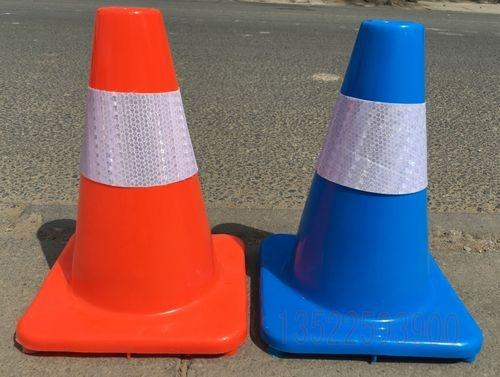cone_barrel: (37, 0, 241, 343), (277, 15, 447, 338)
